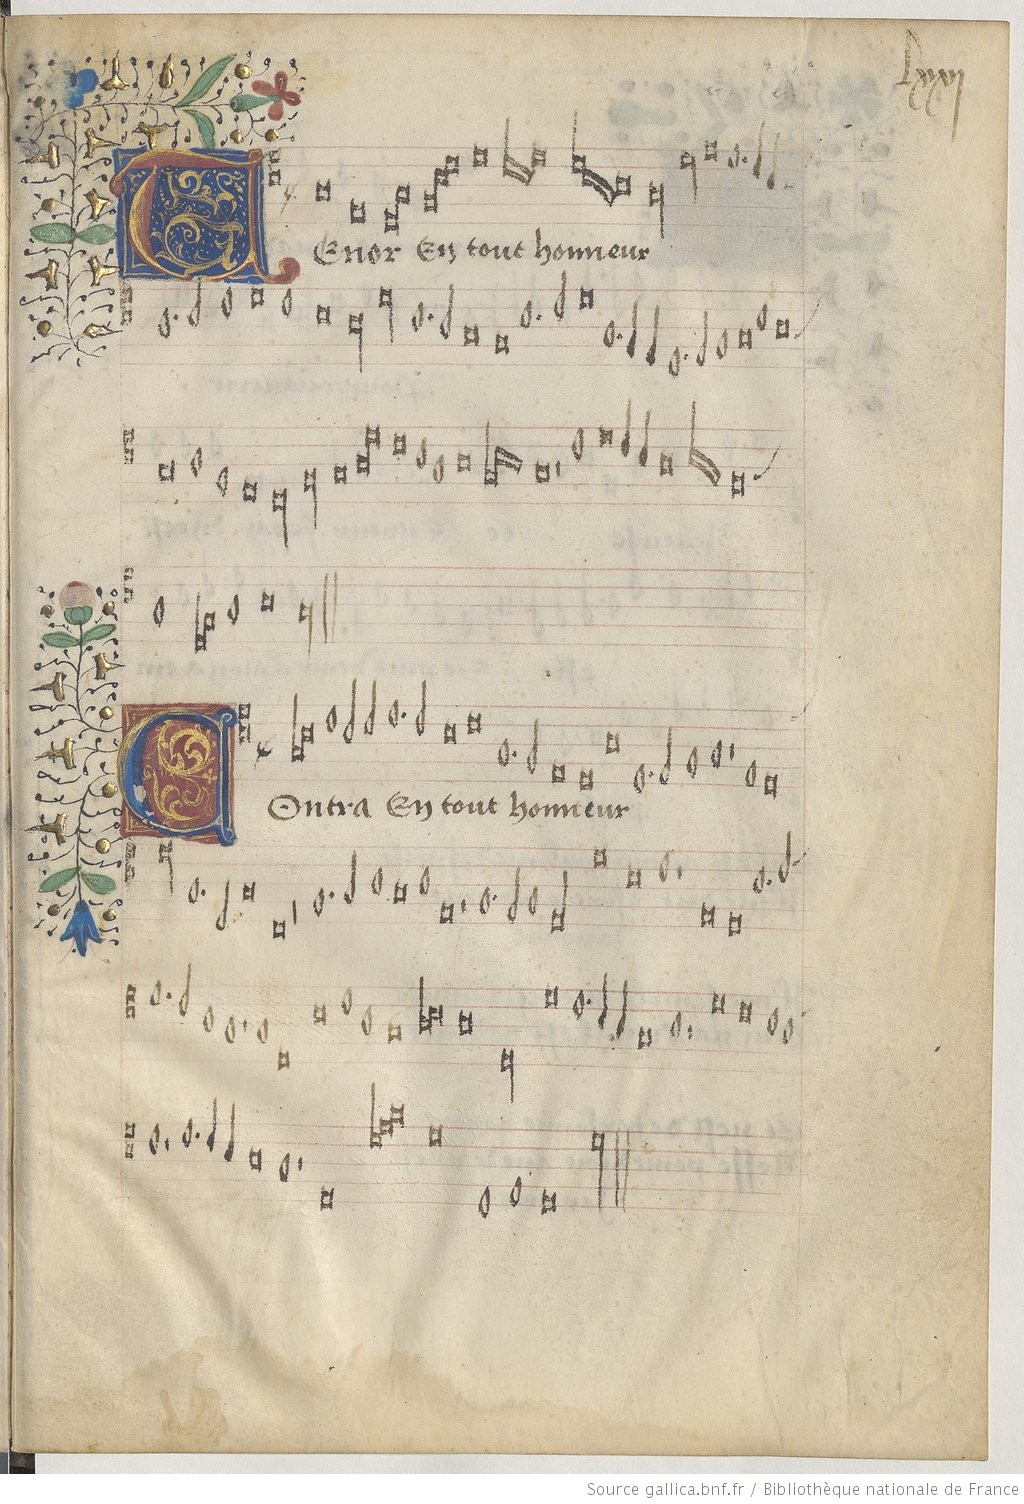breve_10: (235, 472, 262, 510)
breve_5: (389, 425, 413, 461)
breve_7: (653, 445, 683, 485), (350, 415, 366, 482), (451, 443, 475, 479)
breve_8: (149, 451, 181, 491), (529, 453, 555, 489)
breve_9: (723, 464, 757, 507)
c clef_5: (118, 411, 144, 479)
colored breve_4: (592, 415, 618, 454)
custos_8: (747, 445, 781, 496)
l1breve_8: (326, 457, 354, 491)
l1semibreve_8: (479, 416, 496, 493)
l2breve_4: (363, 425, 378, 475)
longa_11: (264, 478, 293, 553)
longa_9: (296, 458, 322, 542)
o1semibreve_6: (683, 399, 704, 491)
o2breve_7: (509, 435, 523, 485)
o2semibreve_6: (495, 437, 509, 486)
o2semibreve_8: (704, 398, 725, 490)
semibreve rest: (549, 418, 567, 511)
semibreve_5: (567, 419, 592, 469)
semibreve_6: (411, 432, 432, 475)
semibreve_7: (184, 439, 209, 485)
semibreve_8: (427, 451, 448, 490)
semibreve_9: (213, 458, 235, 505)
semiminim_5: (618, 402, 635, 464)
semiminim_6: (635, 405, 651, 475)
